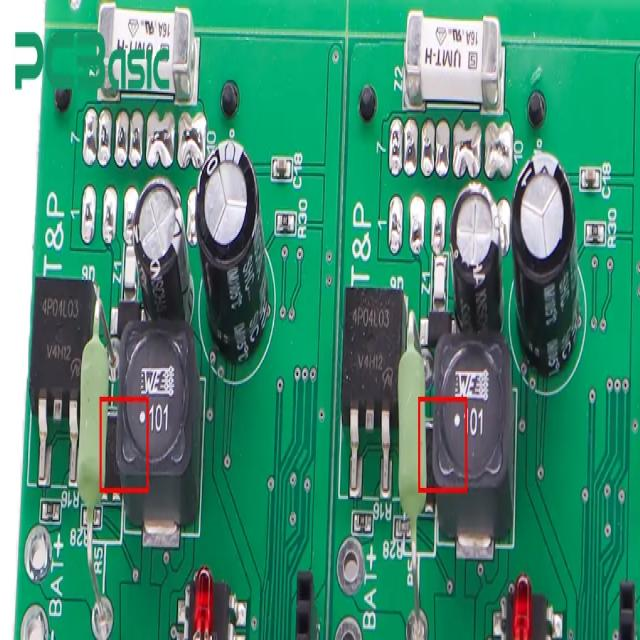Electrolytic capacitor: (194, 134, 274, 369), (513, 151, 583, 375), (447, 195, 505, 348), (134, 171, 193, 321)
led: (186, 557, 218, 637), (511, 565, 536, 640)
